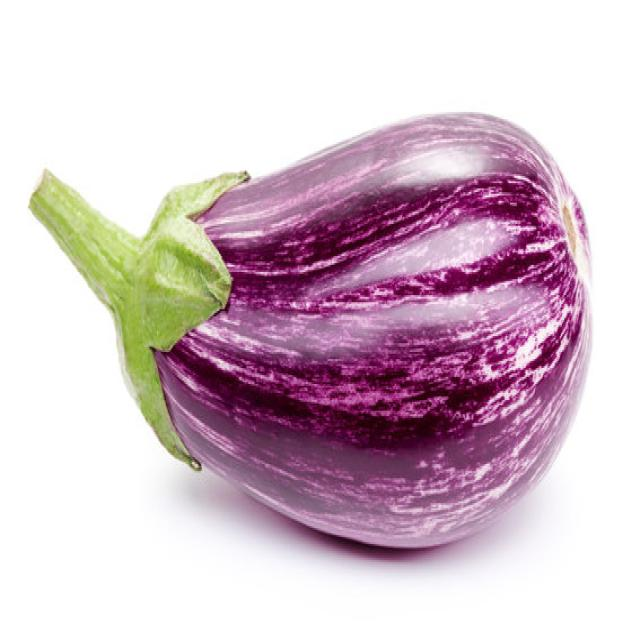Eggplant: (28, 108, 594, 550)
